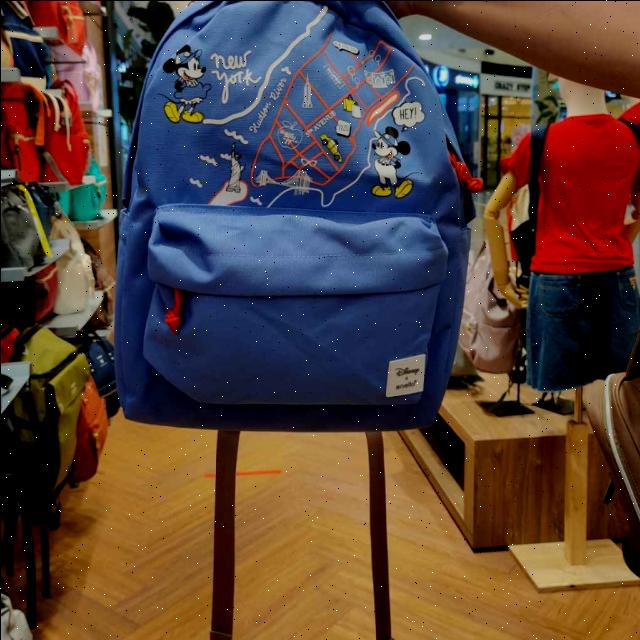handbag: (100, 1, 482, 450)
